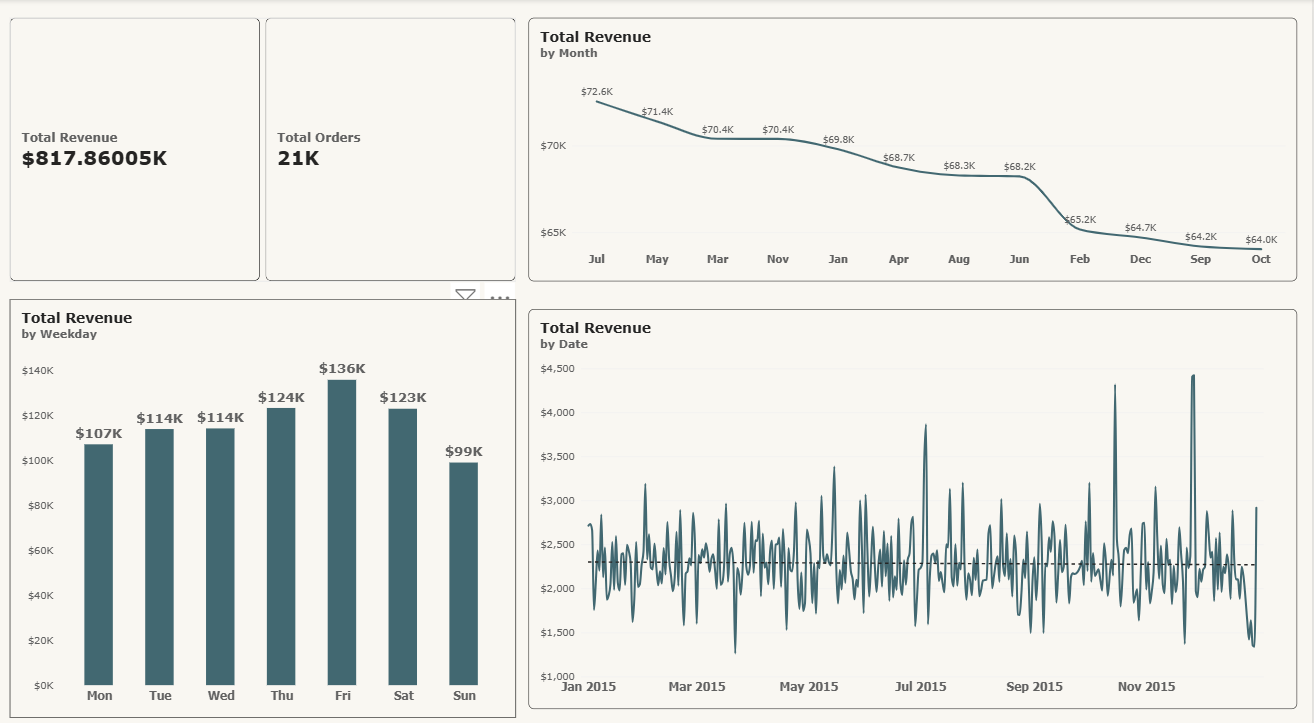

The dashboard page shown, as its layout file describes it:
{"tool":"powerbi","page":{"name":"Revenue & Seasonality","canvas":[1920,1080],"ordinal":2},"visuals":[{"type":"cardVisual","fields":{"Data":["Measure.Total Revenue","Measure.Total Orders"]},"box":[34.4,27.1,732.9,381.8],"z":0},{"type":"lineChart","fields":{"Category":["Calendar.Month"],"Y":["Measure.Total Revenue"]},"box":[785.4,27.1,1112.9,381.8],"z":1000},{"type":"columnChart","fields":{"Category":["Calendar.Weekday"],"Y":["Measure.Total Revenue"]},"box":[34.4,434.3,732.9,606.2],"z":2000},{"type":"lineChart","fields":{"Category":["Calendar.Date"],"Y":["Measure.Total Revenue"]},"box":[785.4,448.8,1112.9,579.1],"z":3000}]}

Visuals, with their boxes in screenshot pixels (x1, y1, x2, y2), scaled from the page's 1920x1080 canvas onto the 1314x723 screenshot:
cardVisual - Measure.Total Revenue x Measure.Total Orders: 24/18/525/274
lineChart - Calendar.Month x Measure.Total Revenue: 538/18/1299/274
columnChart - Calendar.Weekday x Measure.Total Revenue: 24/291/525/697
lineChart - Calendar.Date x Measure.Total Revenue: 538/300/1299/688
